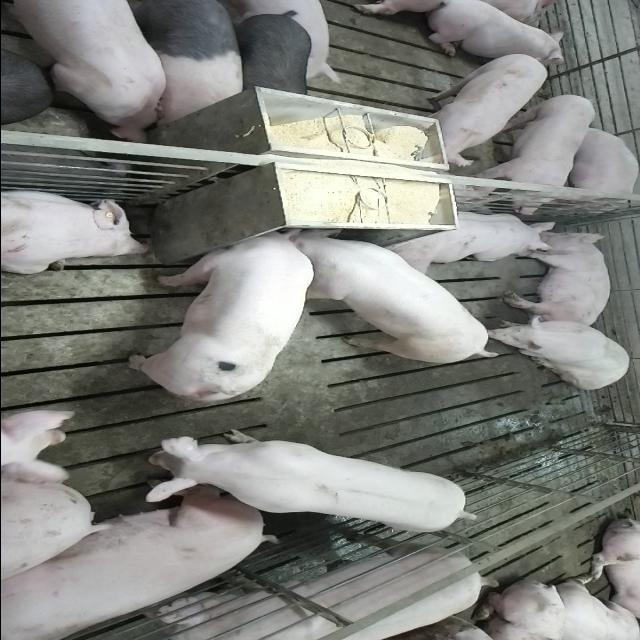Feeding: (123, 221, 314, 395), (282, 230, 502, 366)
Lateral_lying: (501, 230, 612, 328)
Sitting: (484, 316, 634, 390)
Standing: (139, 536, 505, 640), (140, 433, 482, 536), (0, 2, 171, 142), (405, 52, 548, 166), (117, 2, 245, 128), (476, 92, 598, 216), (222, 10, 314, 110)
Sternal_lying: (0, 186, 150, 274), (380, 206, 556, 270), (418, 1, 568, 62), (554, 125, 637, 208)
